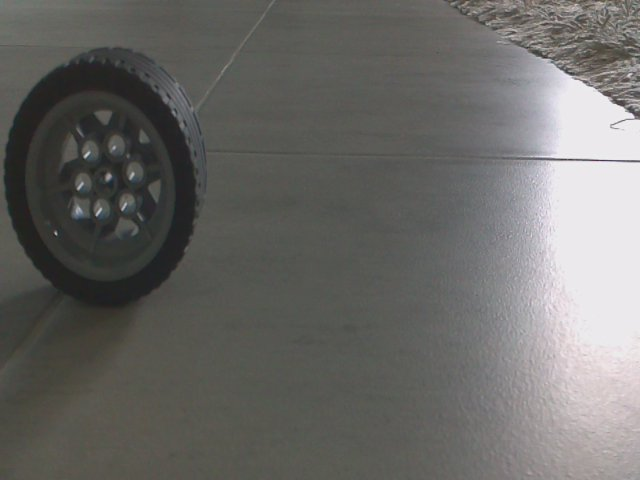Rad: (3, 41, 210, 314)
